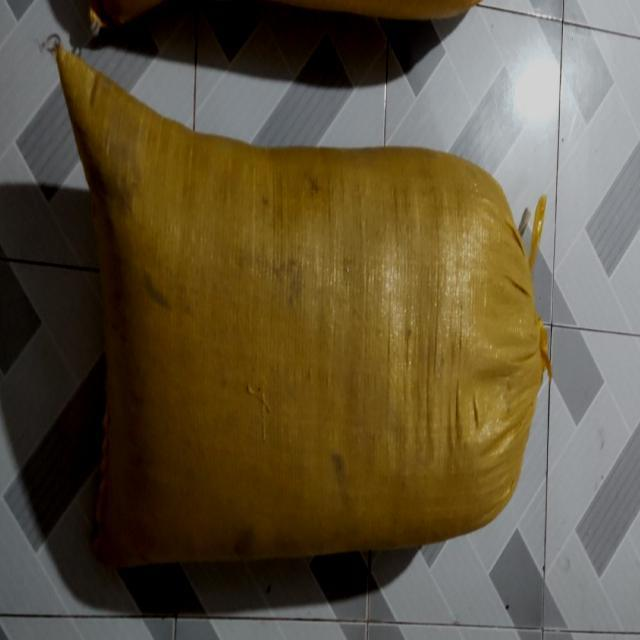gunny_bag: (55, 46, 545, 567)
